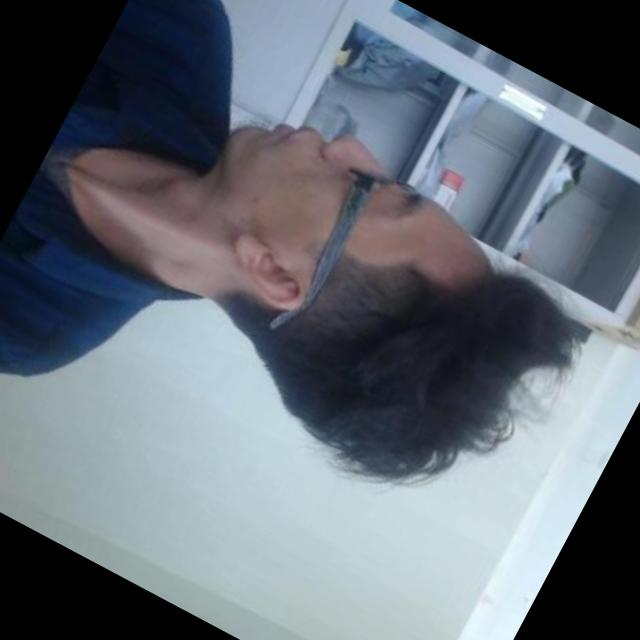bareface: (108, 57, 634, 514)
